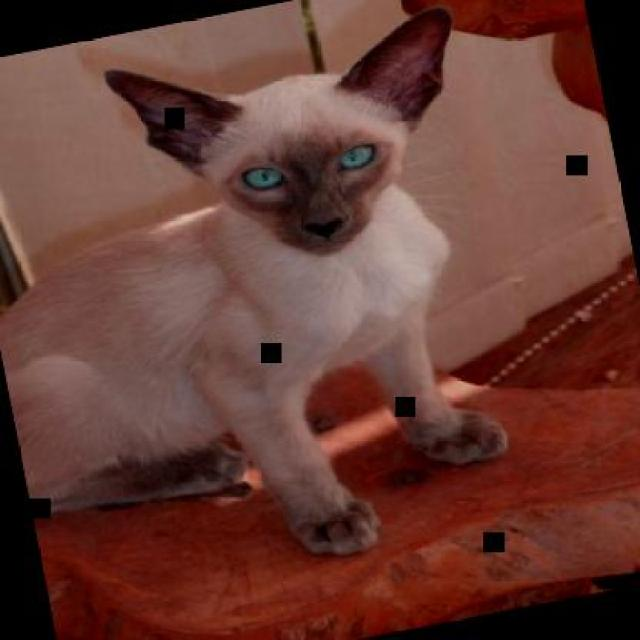cat: (0, 2, 549, 610)
